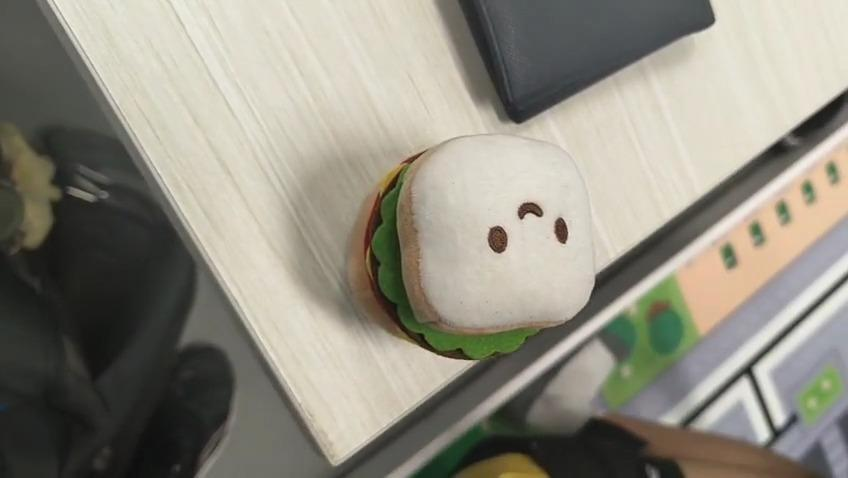objects: (350, 131, 603, 360)
